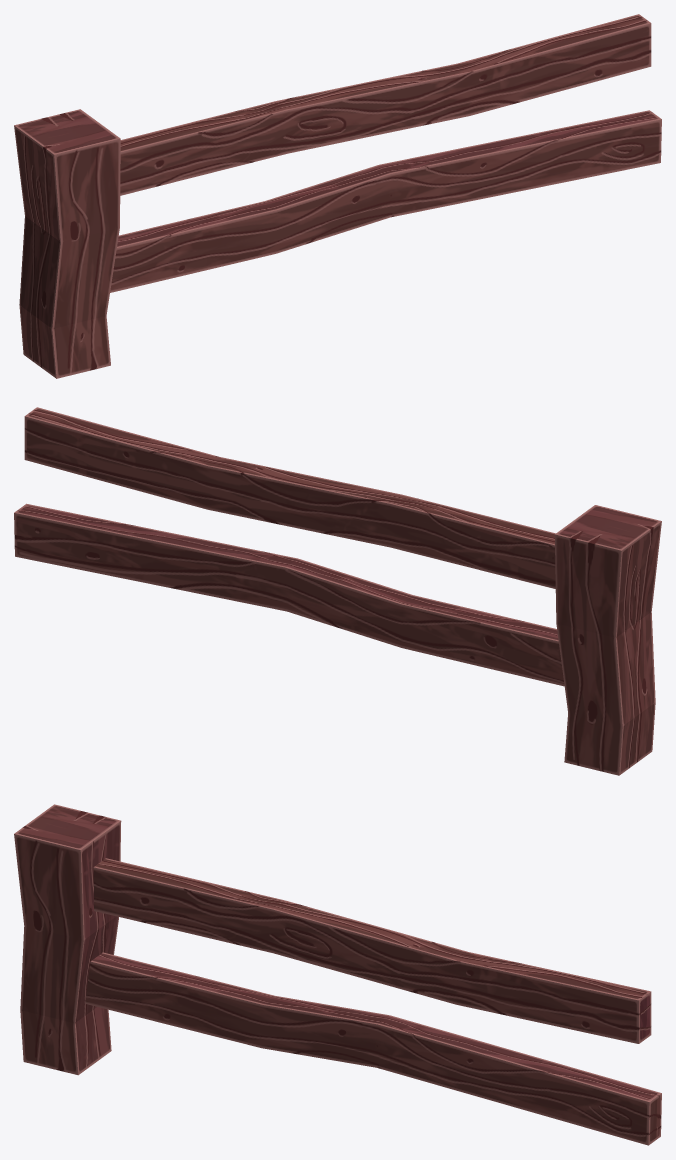
Rendered from fence_02.glb.
3 renders of one model, top to bottom at view 1: azimuth 30°, elevation 25°; view 2: azimuth 150°, elevation 25°; view 3: azimuth 330°, elevation 25°, orthographic.
Visible parts, largest first — view 1: Fence.002; view 2: Fence.002; view 3: Fence.002.
Boxes of the visible parts, x1=… form: Fence.002: x1=14, y1=14, x2=661, y2=378; Fence.002: x1=14, y1=407, x2=661, y2=775; Fence.002: x1=14, y1=804, x2=661, y2=1145.
Bounding box in the file's own units: 5.69 × 2 × 0.6393.
Materials: 1 (1 with a texture image).
